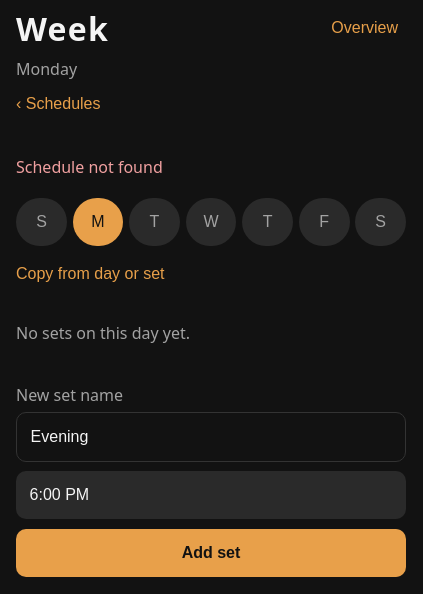
it: WeekEditorPage › shows load errors and add-set API errors
Expected: the message reads "Schedule not found", top-left (16, 156), bottom-right (163, 178)
Click the button "Add set" at (211, 553), box top-left (16, 529), bottom-right (406, 577)
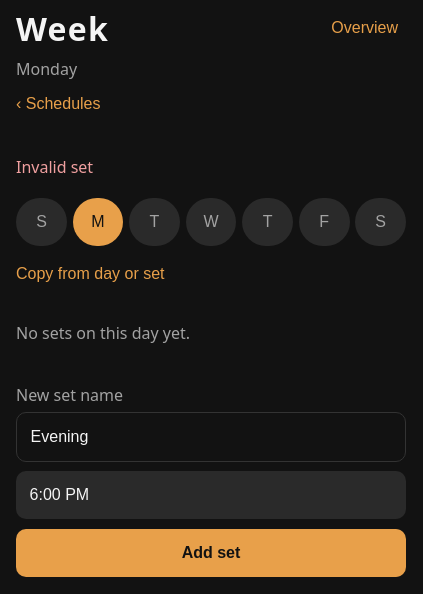
Now the message reads "Invalid set", box top-left (16, 156), bottom-right (93, 178)
